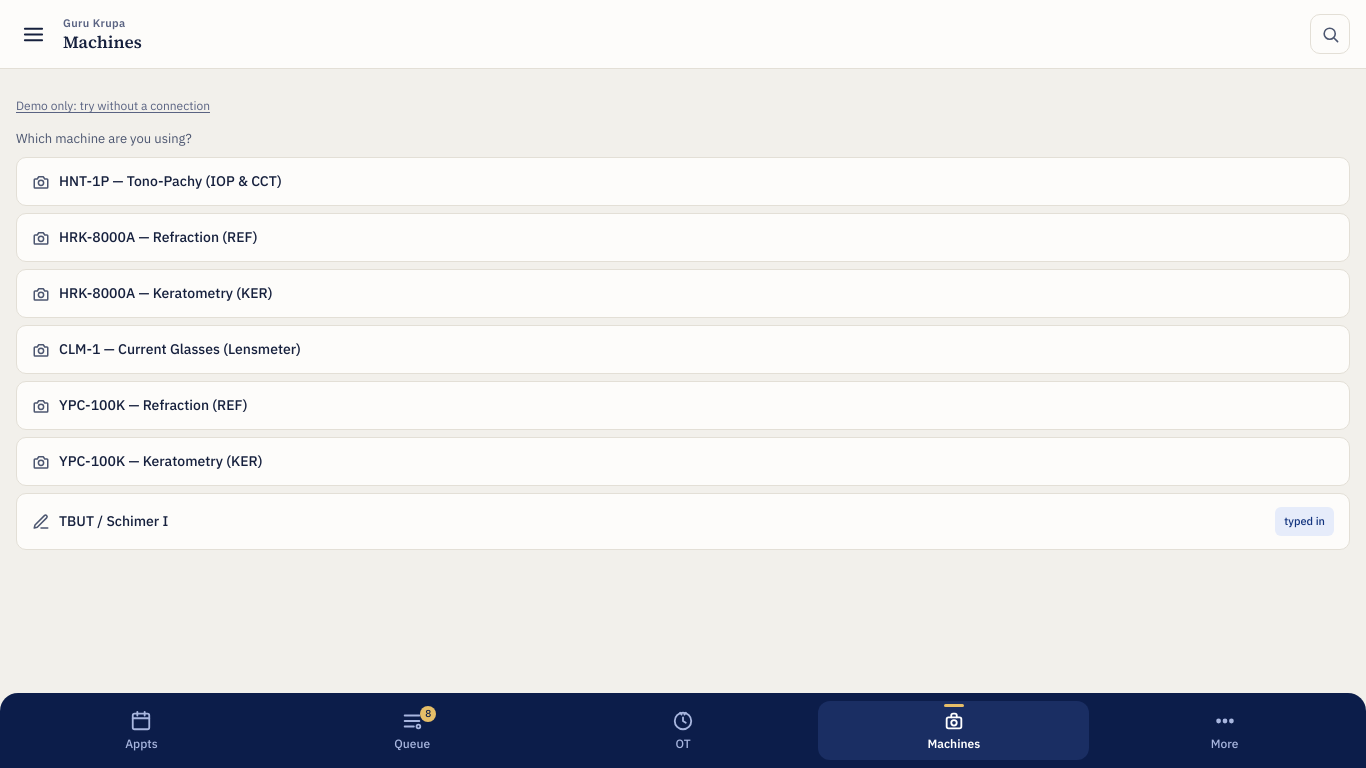
Test case: Machines screen (F5) — machine first, then the patient › lists every machine first; then today's patients (not done), filtered by name or token
Expected: the text "Which machine are you using?" is shown, [16,130,192,147]
Expected: the button with test id "machine-tbut_schirmer" shows "typed in", [16,493,1350,550]
Click the button with test id "machine-hnt1p_tono" at point(170, 181), box [16,157,1350,206]
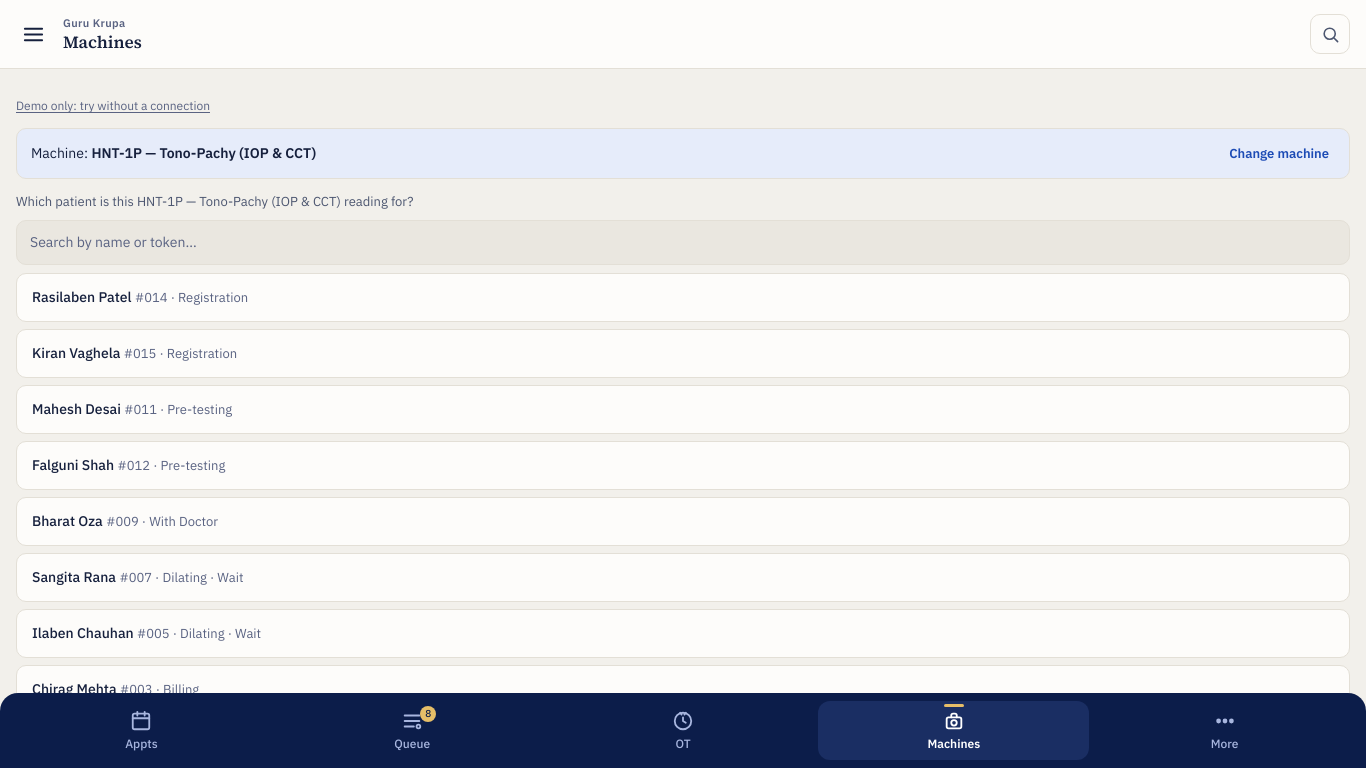
Result: the element with test id "machine-chosen" shows "HNT-1P" at [91,144,316,162]
Result: the text "Rasilaben Patel" is shown at [32,288,132,306]
Result: the text "Kiran Vaghela" is shown at [32,344,120,362]
Type "#012" into the field with placeholder "Search by name or token…" at point(683, 242), box [16,220,1350,265]
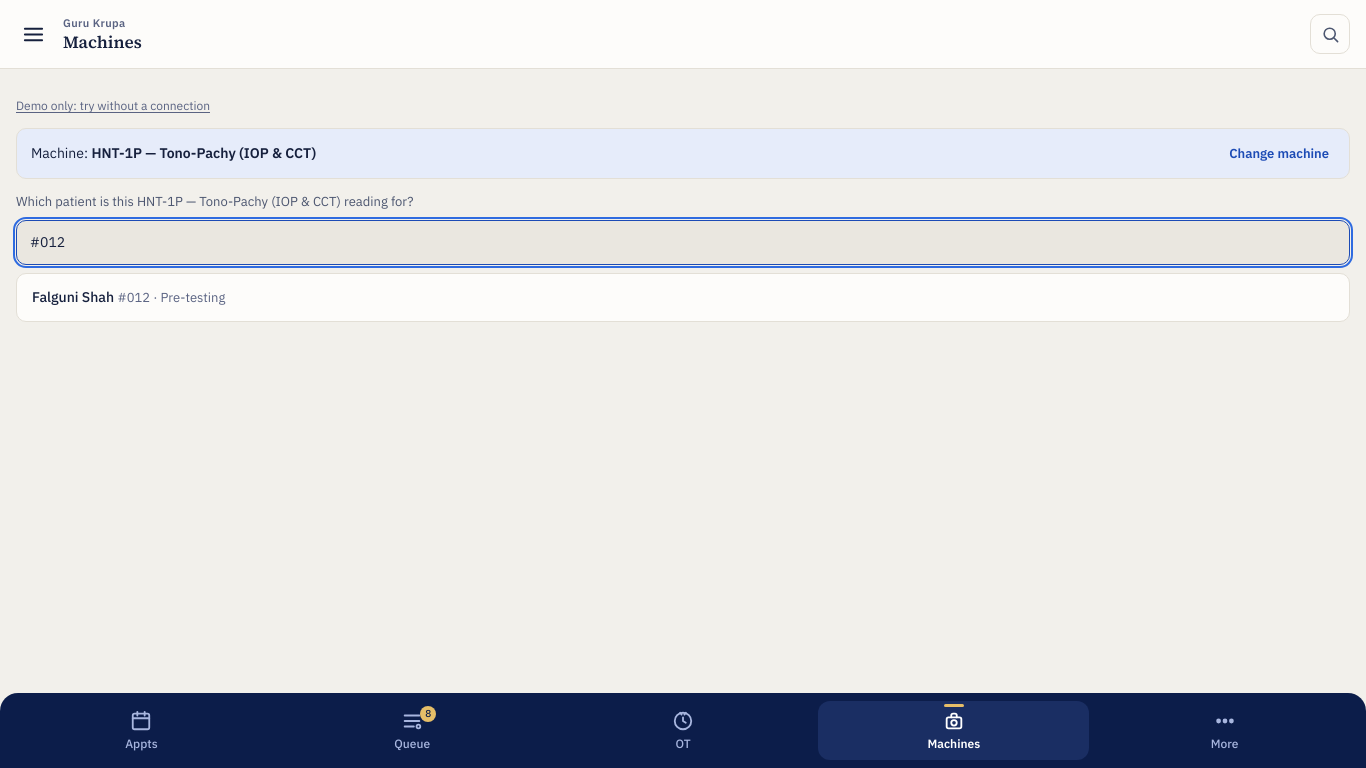
Result: the text "Falguni Shah" is shown at [32,288,114,306]
Result: the button "Rasilaben Patel" is gone
Replace the text in the field with "kiran" at point(683, 242), box [16,220,1350,265]
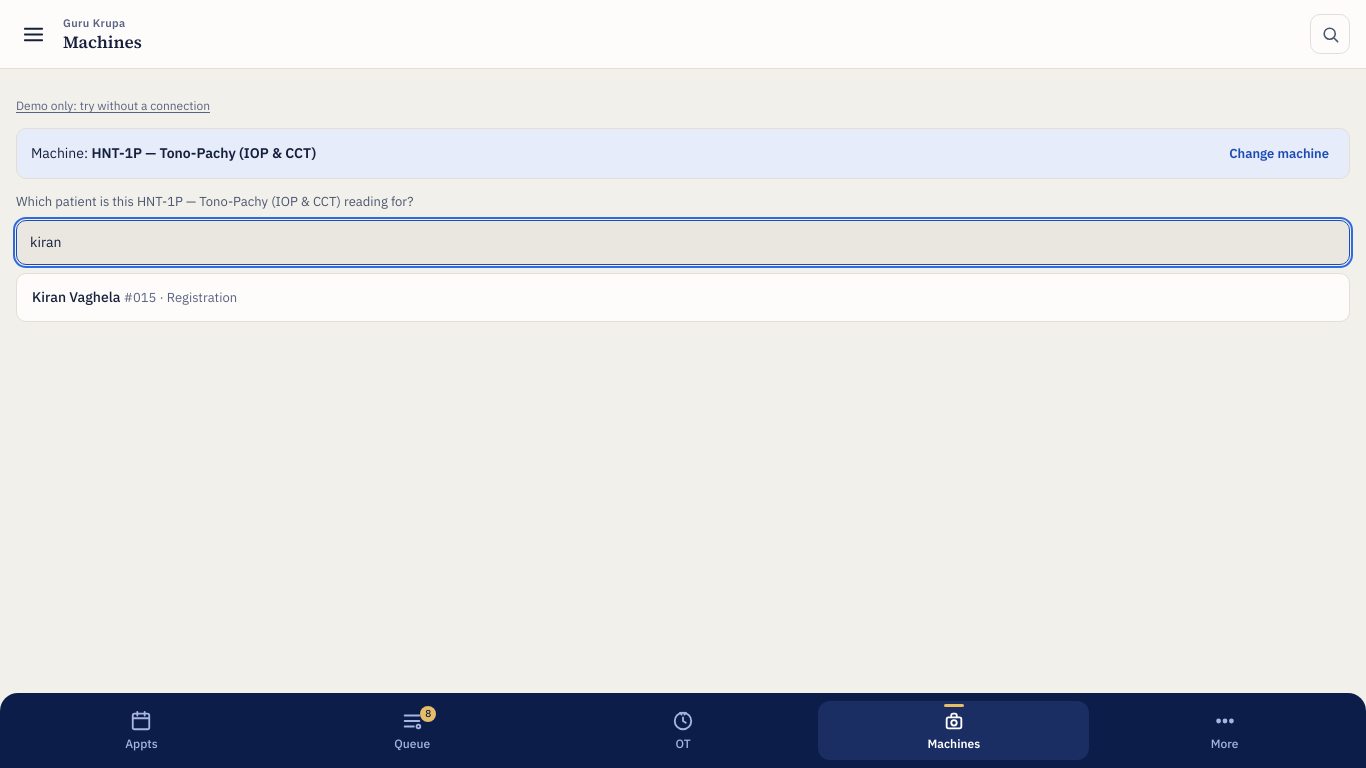
Expected: the button "Falguni Shah" is not shown
Result: the text "Kiran Vaghela" is shown at [32,288,120,306]
Click the button with test id "change-machine" at point(1279, 154), box [1223,139,1335,168]
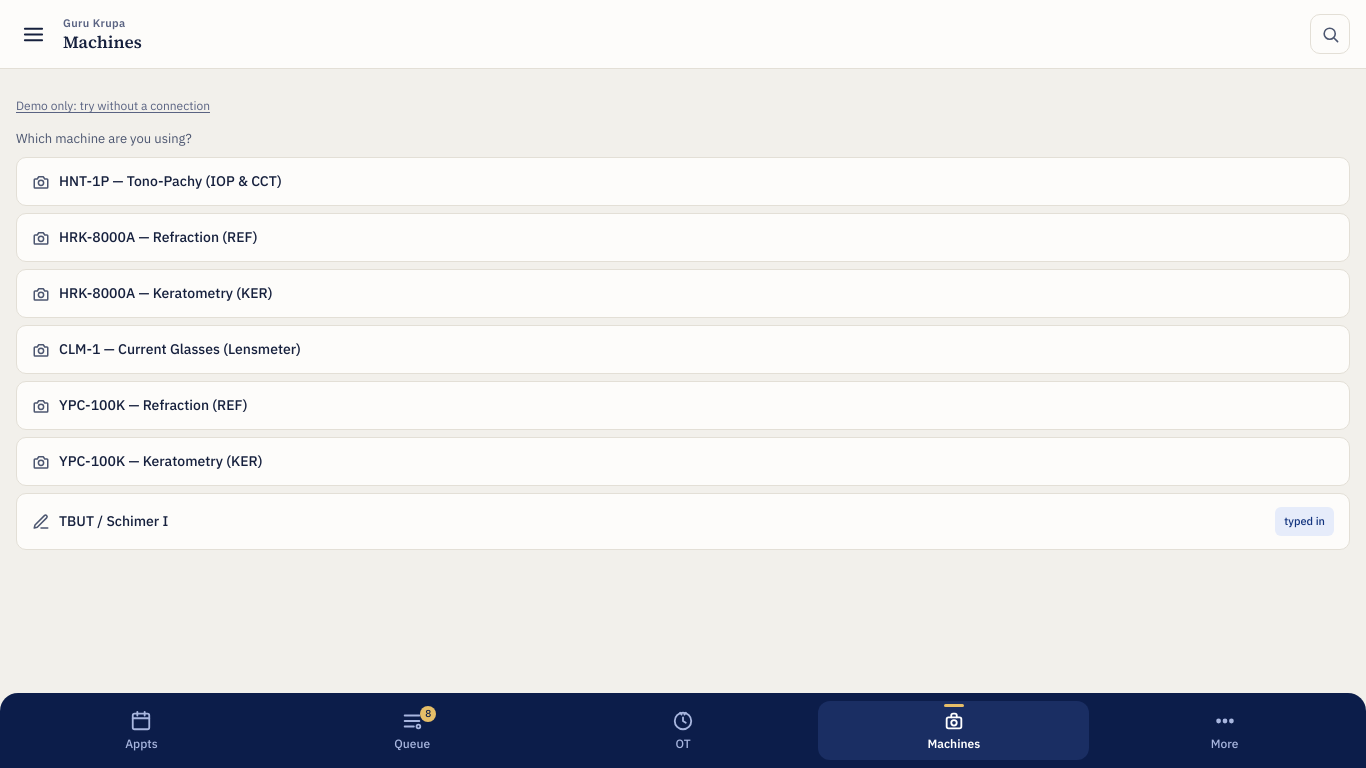
Result: the text "Which machine are you using?" is shown at [16,130,192,147]
